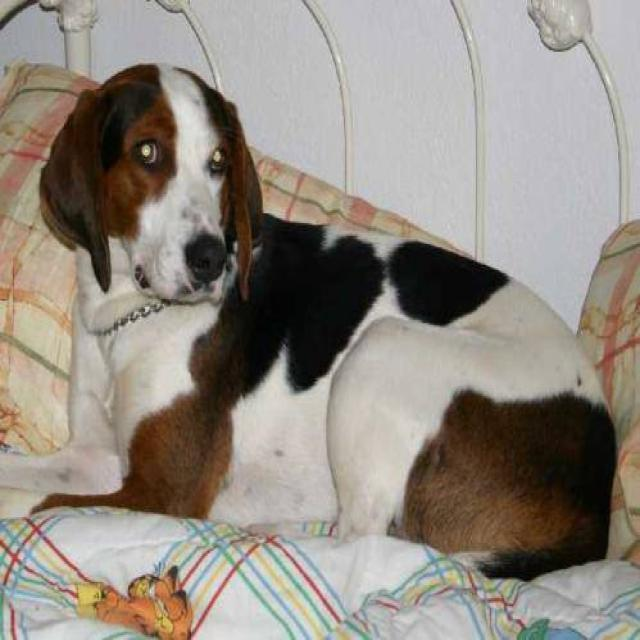dog: (0, 60, 617, 580)
